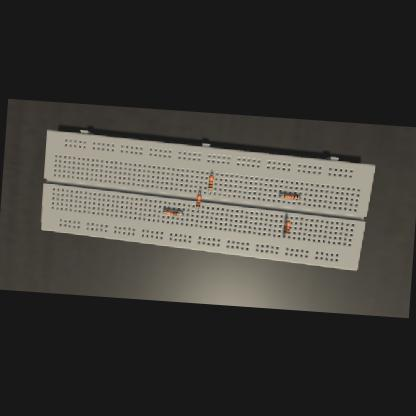breadboard: (38, 127, 376, 271)
resistor: (284, 220, 290, 235), (284, 194, 298, 200), (207, 175, 213, 189), (164, 210, 178, 215), (195, 194, 200, 208)
wire: (285, 217, 288, 220), (178, 212, 182, 214), (196, 208, 198, 210), (198, 192, 200, 194), (208, 190, 210, 192), (283, 235, 286, 236), (298, 197, 300, 198), (163, 211, 164, 212), (278, 196, 283, 196)
